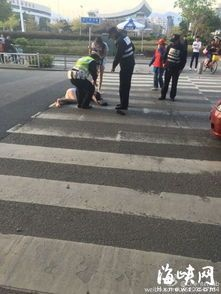falling: (48, 81, 111, 106)
